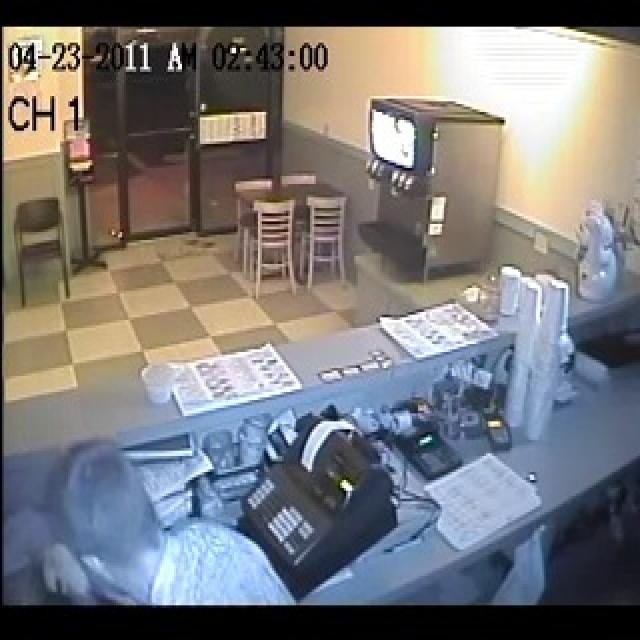thief: (22, 428, 300, 606)
